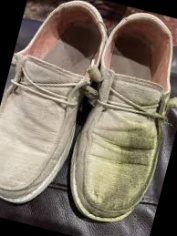earth: (107, 124, 157, 208)
